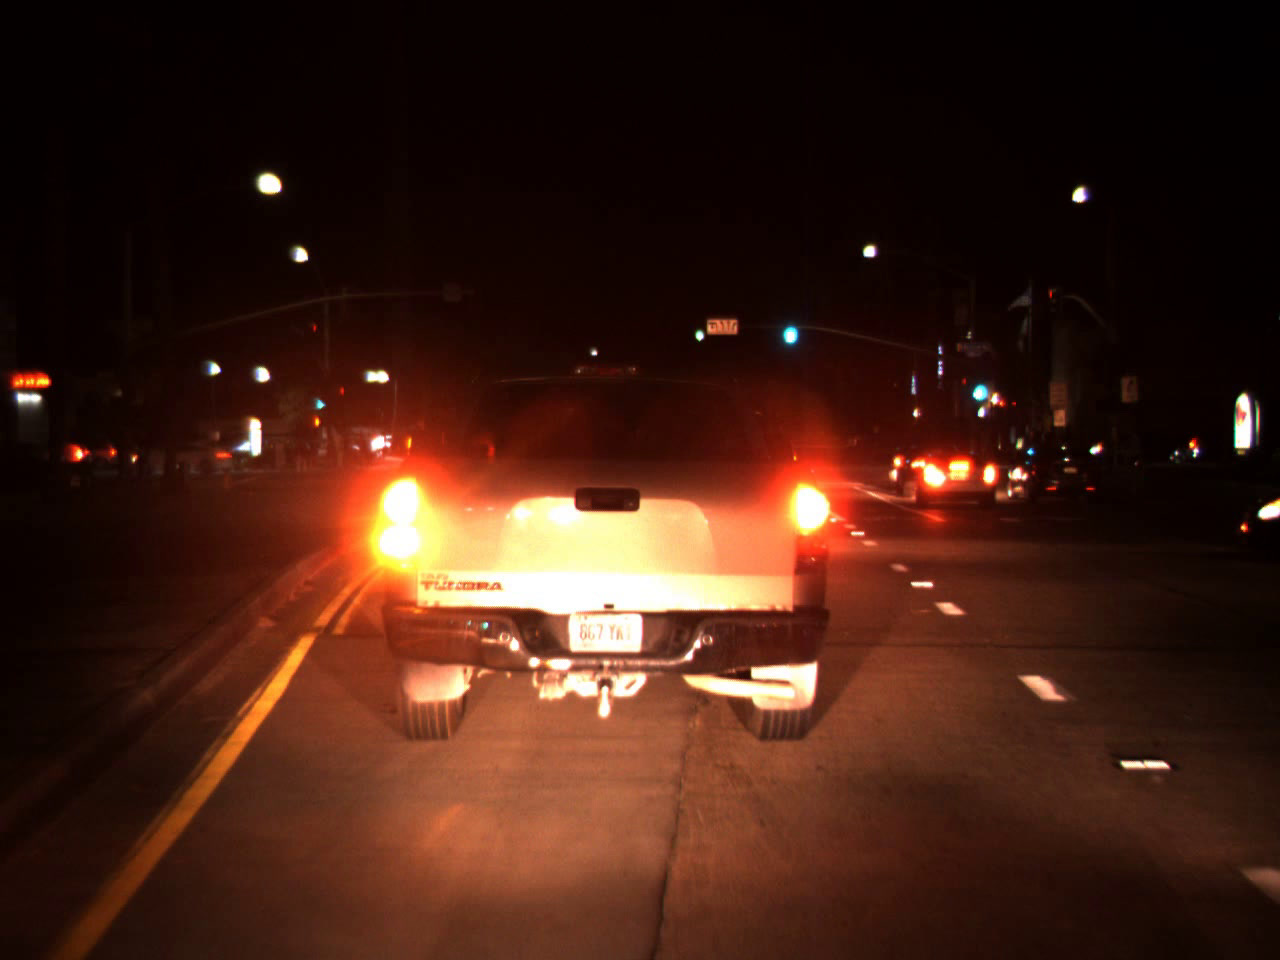go: (777, 305, 800, 350), (967, 365, 990, 407), (692, 317, 703, 344), (315, 390, 325, 411)
